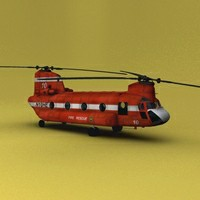chinook: (17, 63, 182, 136)
